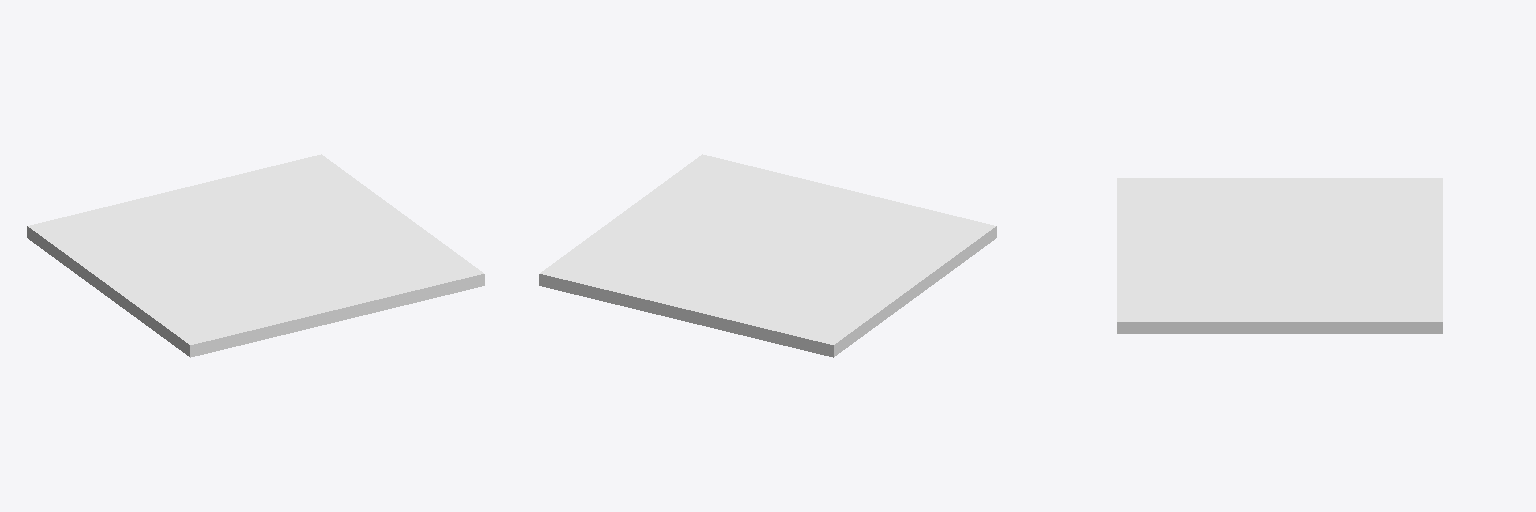
File: SmallBuilding04-10.obj
3 renders of one model, left to right at view 1: azimuth 30°, elevation 25°; view 2: azimuth 150°, elevation 25°; view 3: azimuth 270°, elevation 25°, orthographic.
Parts seen in each view (by area): view 1: object 1; view 2: object 1; view 3: object 1.
Boxes of the visible parts, <box> form: object 1: <box>27,154,484,357</box>; object 1: <box>539,154,996,357</box>; object 1: <box>1117,178,1442,333</box>.
Bounding box in the file's own units: 2.5 × 0.1 × 2.4.